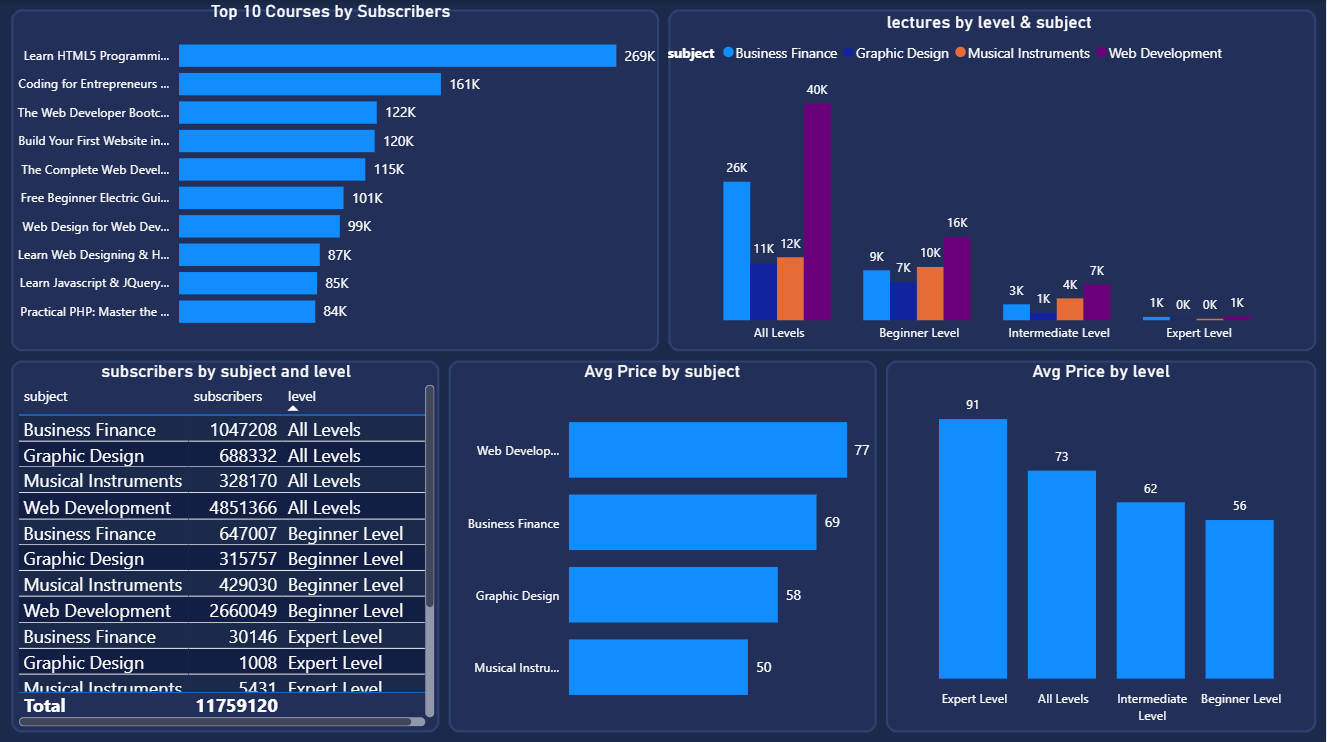

This screenshot's page, from the dashboard's own definition file:
{"tool":"powerbi","page":{"name":"Page 3","canvas":[1280,720],"ordinal":1},"visuals":[{"type":"clusteredColumnChart","title":"lectures by level & subject","fields":{"Category":["udemy_courses.level"],"Y":["Sum(udemy_courses.num_lectures)"],"Series":["udemy_courses.subject"]},"box":[639.4,10.9,631,328.2],"z":0},{"type":"tableEx","title":"subscribers by subject and level","fields":{"Values":["udemy_courses.subject","Sum(udemy_courses.num_subscribers)","udemy_courses.level"]},"box":[12.5,347.5,412.5,358.8],"z":1000},{"type":"clusteredColumnChart","fields":{"Category":["udemy_courses.level"],"Y":["new messure.Avg Price"]},"box":[853.8,347.5,417.5,358.8],"z":2000},{"type":"barChart","title":"Top 10 Courses by Subscribers","fields":{"Category":["udemy_courses.course_title"],"Y":["Sum(udemy_courses.num_subscribers)"]},"box":[0,0,638.2,328.2],"z":3000},{"type":"barChart","fields":{"Category":["udemy_courses.subject"],"Y":["new messure.Avg Price"]},"box":[433.8,347.5,410,358.8],"z":4000}]}

Visuals, with their boxes in screenshot pixels (x1, y1, x2, y2), scaled from the page's 1280x720 canvas onto the 1327x742 screenshot:
"lectures by level & subject" clusteredColumnChart: 663 11 1317 349
"subscribers by subject and level" tableEx: 13 358 441 728
clusteredColumnChart - udemy_courses.level x new messure.Avg Price: 885 358 1318 728
"Top 10 Courses by Subscribers" barChart: 0 0 662 338
barChart - udemy_courses.subject x new messure.Avg Price: 450 358 875 728
